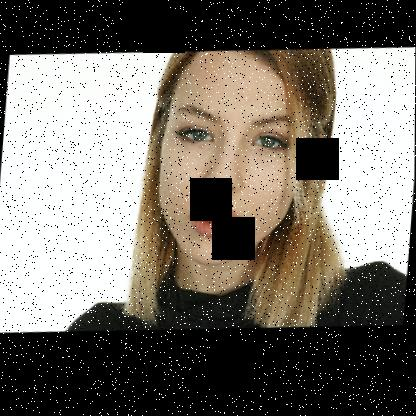Female: (151, 42, 329, 280)
